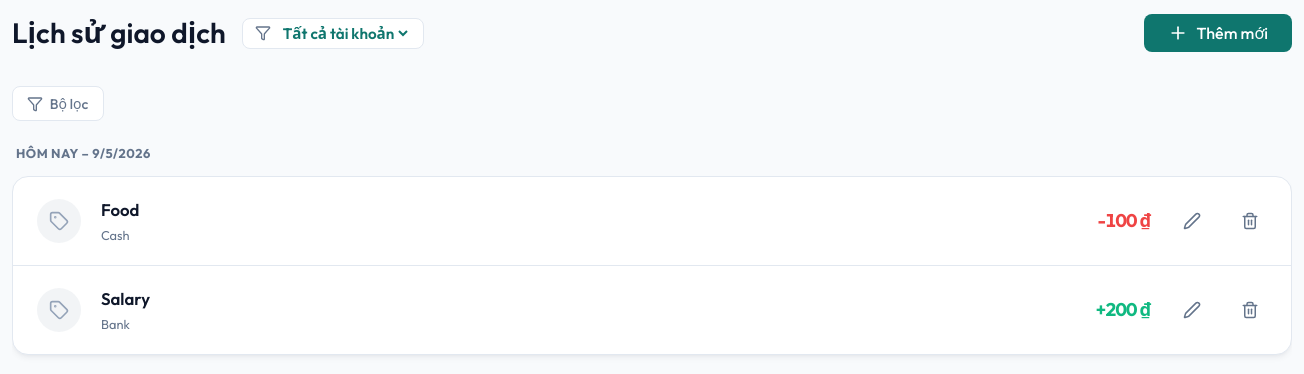
Test case: Transactions Page - Filter Integration › should update URL when filter selection changes
This screenshot has width=1304, height=374.
Select "Bank" in the dropdown at coordinates (345, 33), box [279,22,411,44]
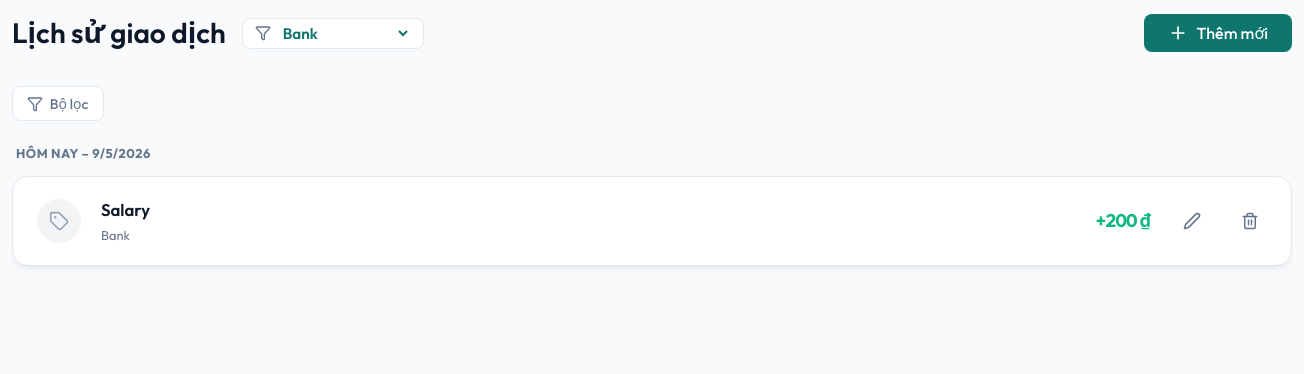
Expected: the heading "Salary" is shown, [101,197,150,222]
Expected: the heading "Food" is gone
